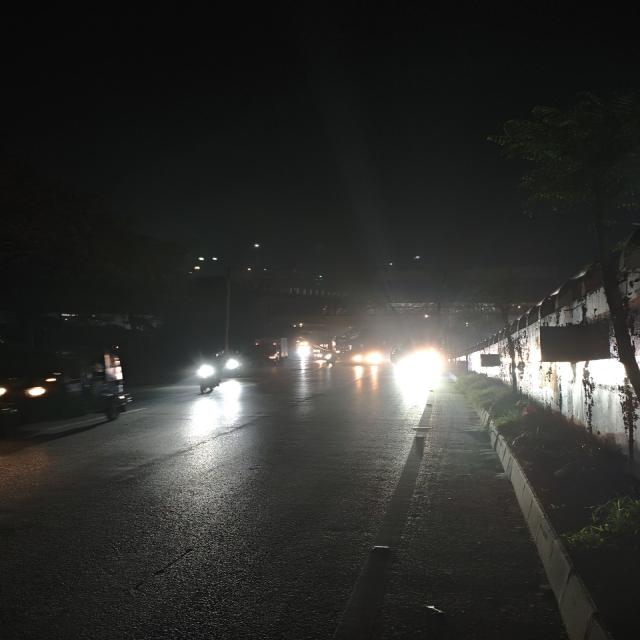cng: (16, 346, 130, 427)
motorcycle: (189, 355, 226, 402)
truck: (248, 334, 294, 368)
